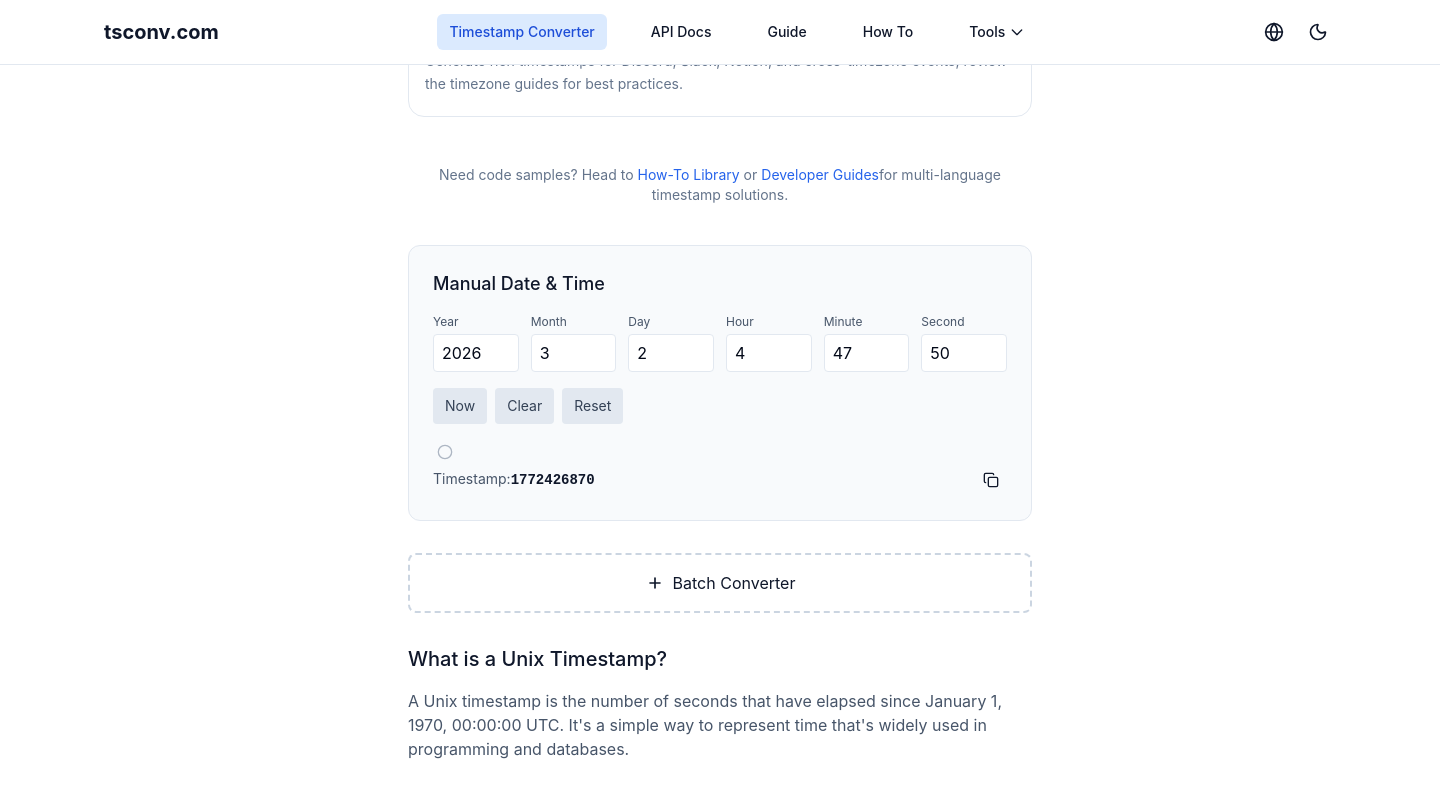
Test: Manual Date Input - Mobile Improvements › should reset to default values when Reset button is clicked
(page scrolled)
Click the button "Reset": (593, 406) [562,388,623,424]
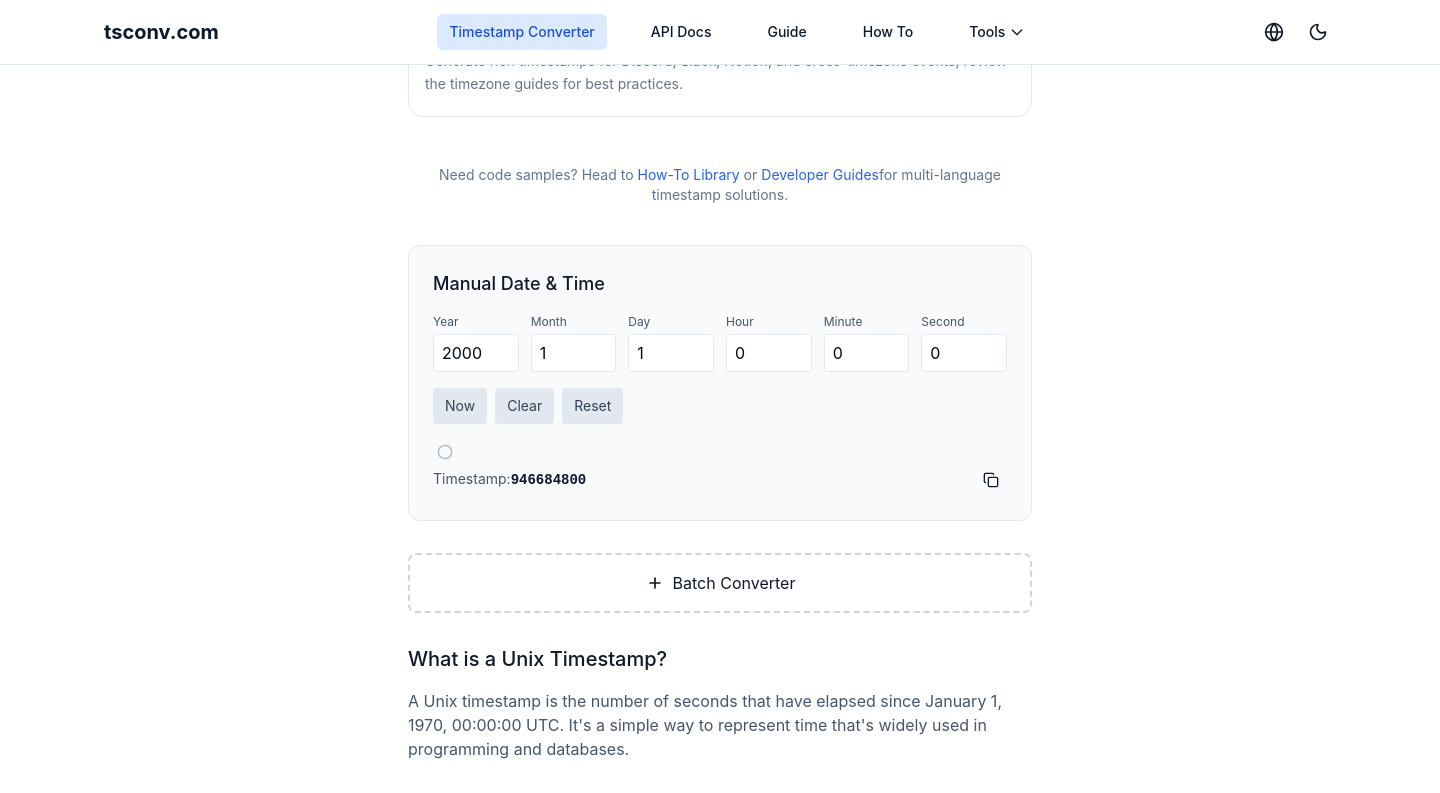
Expected: the number field labelled "Year" holds "2000", [433,334,519,372]
Expected: the number field labelled "Month" holds "1", [531,334,616,372]
